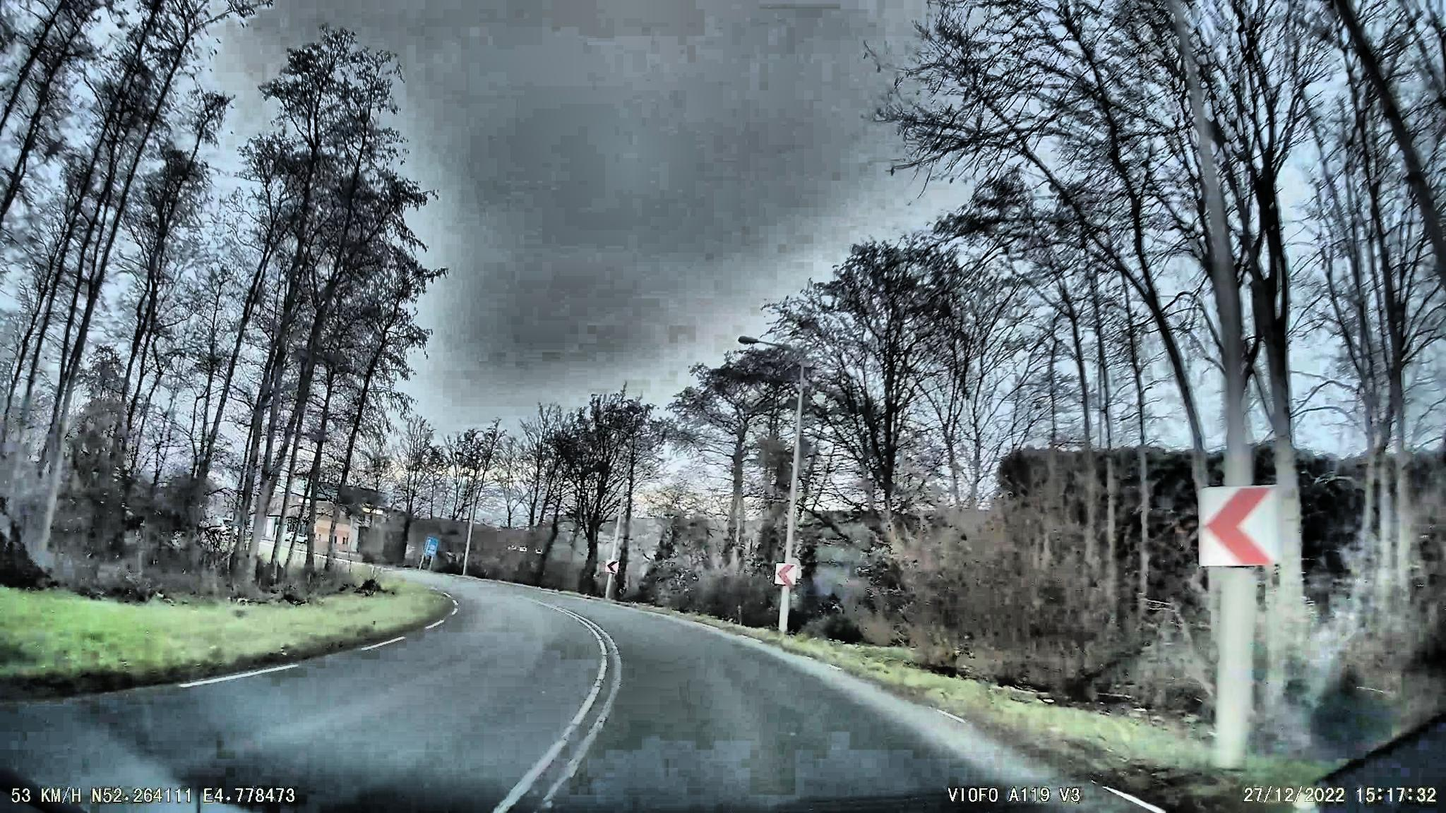Roads: (0, 572, 1169, 813)
